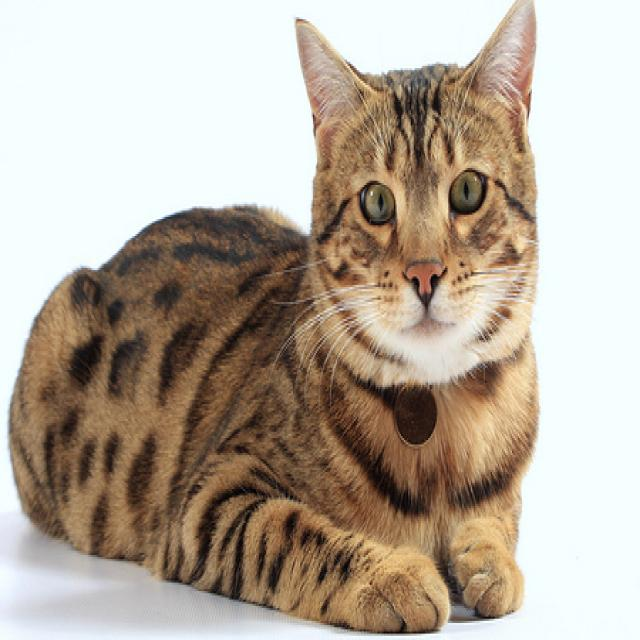Bengal: (3, 0, 550, 636)
